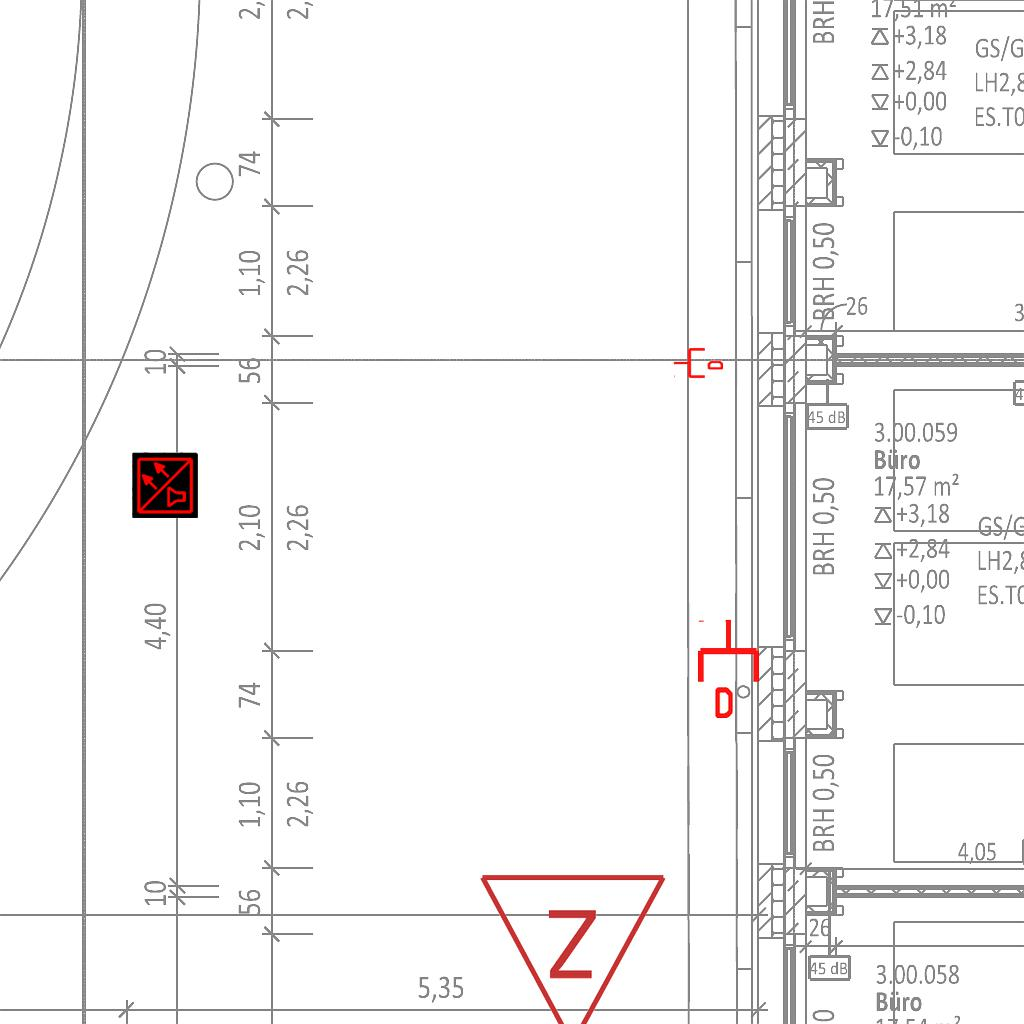Datenanschluss_einfach: (694, 618, 763, 718), (673, 346, 723, 380)
OKW_Multisensormelder_(Kombination_optischer_Rauch-Kahlenmonoxid_Waerme-Melder): (132, 452, 198, 518)
Zimmersignalleuchte: (477, 860, 673, 1024)
